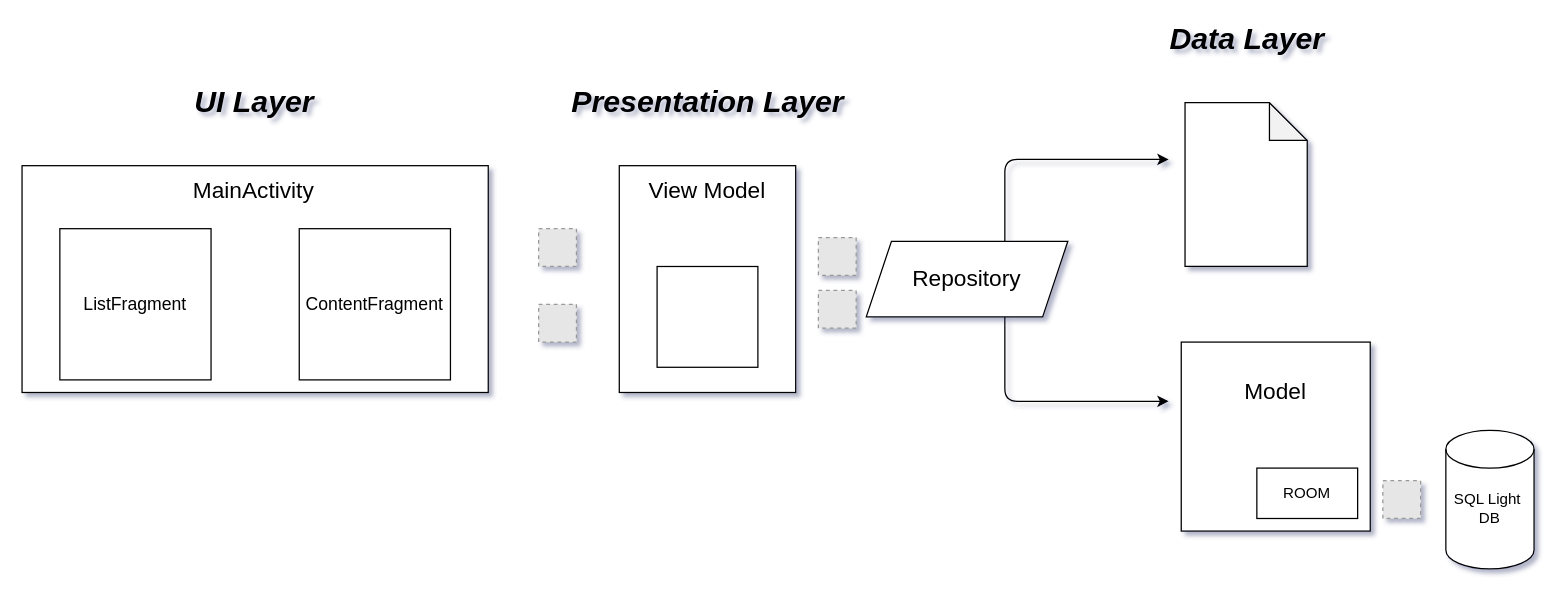
This 1564x599 diagram has some shape labels left out. Grey dashed boxes stand in for pictures. The centre of each missing label's shape, as x and y in pixels:
Data File: (x=1245, y=183)
LiveData: (x=707, y=316)
